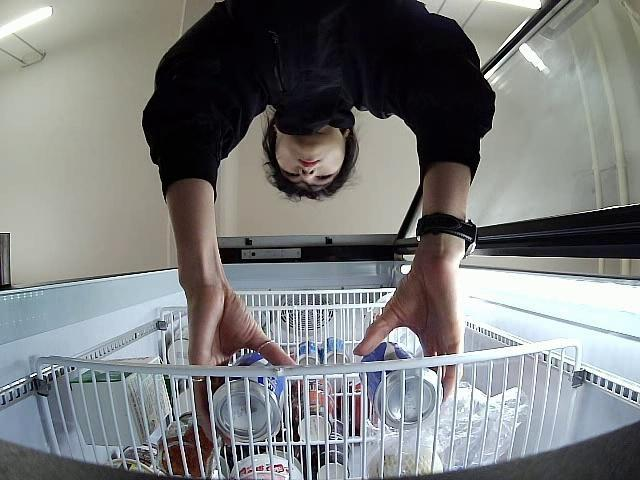13_pocariSweat: (357, 340, 444, 431), (210, 351, 288, 444)
